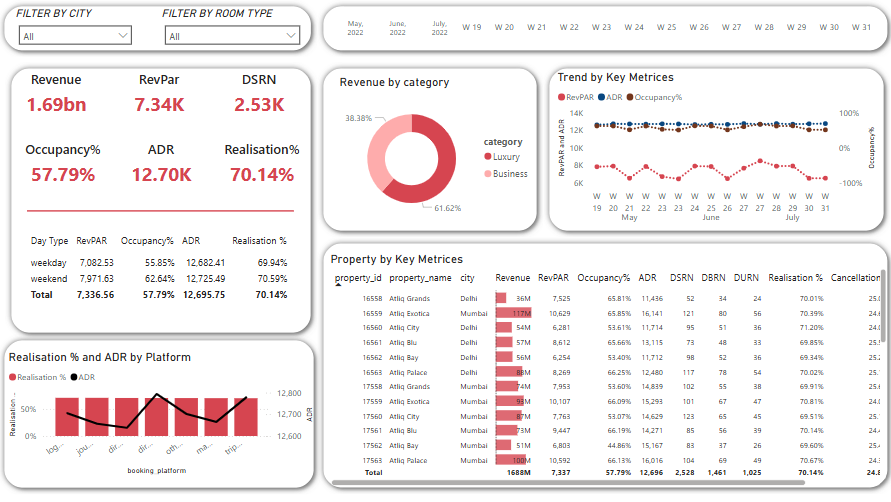

The dashboard page shown, as its layout file describes it:
{"tool":"powerbi","page":{"name":"Page 1","canvas":[1280,720],"ordinal":0},"visuals":[{"type":"shape","box":[455.7,338.6,824.3,367.1],"z":0},{"type":"shape","box":[455.7,0,824.3,81.4],"z":1000},{"type":"tableEx","title":"Property by Key Metrices","fields":{"Values":["dim_hotels.property_id","dim_hotels.property_name","dim_hotels.city","key_measures.Revenue","key_measures.RevPAR","key_measures.Occupancy%","key_measures.ADR","key_measures.DSRN","key_measures.DBRN","key_measures.DURN","key_measures.Realisation %","key_measures.Cancellation %"]},"box":[470,360,804.3,338.6],"z":2000},{"type":"slicer","title":"FILTER BY CITY","fields":{"Values":["dim_date.week no"]},"box":[628.6,18.6,651.4,38.6],"z":3000},{"type":"slicer","title":"FILTER BY CITY","fields":{"Values":["dim_date.mmm yy"]},"box":[455.7,8.6,228.6,62.9],"z":4000},{"type":"shape","box":[778.6,88.6,495.7,250],"z":5000},{"type":"shape","box":[455.7,88.6,322.9,250],"z":6000},{"type":"donutChart","fields":{"Y":["key_measures.Revenue"],"Category":["dim_hotels.category"]},"box":[482.9,107.1,290,220],"z":7000},{"type":"shape","box":[0,0,455.7,81.4],"z":8000},{"type":"slicer","title":"FILTER BY ROOM TYPE","fields":{"Values":["dim_rooms.room_class"]},"box":[228.6,8.6,212.9,65.7],"z":9000},{"type":"slicer","title":"FILTER BY CITY","fields":{"Values":["dim_hotels.city"]},"box":[20,8.6,181.4,65.7],"z":10000},{"type":"shape","box":[10,88.6,445.7,395.7],"z":11000},{"type":"lineChart","title":"Trend by Key Metrices","fields":{"Category":["dim_date.mmm yy.Variation.Date Hierarchy.Month","dim_date.week no"],"Y":["key_measures.RevPAR","key_measures.ADR"],"Y2":["key_measures.Occupancy%"]},"box":[794.3,100,464.3,232.9],"z":12000},{"type":"card","title":"Revenue","fields":{"Values":["key_measures.Revenue"]},"box":[0,100,165.7,74.3],"z":13000},{"type":"card","title":"RevPar","fields":{"Values":["key_measures.RevPAR"]},"box":[147.1,100,165.7,74.3],"z":14000},{"type":"shape","box":[0,477.1,460,228.6],"z":15000},{"type":"lineStackedColumnComboChart","title":"Realisation % and ADR by Platform","fields":{"Category":["fact_booking.booking_platform"],"Y":["key_measures.Realisation %"],"Y2":["key_measures.ADR"]},"box":[10,500,445.7,182.9],"z":16000},{"type":"card","title":"DSRN","fields":{"Values":["key_measures.DSRN"]},"box":[290,100,165.7,74.3],"z":17000},{"type":"card","title":"Occupancy%","fields":{"Values":["key_measures.Occupancy%"]},"box":[10,200,165.7,74.3],"z":18000},{"type":"tableEx","fields":{"Values":["dim_date.Day Type","key_measures.RevPAR","key_measures.Occupancy%","key_measures.ADR","key_measures.Realisation %"]},"box":[35.7,327.1,392.9,134.3],"z":19000},{"type":"card","title":"ADR","fields":{"Values":["key_measures.ADR"]},"box":[150,200,165.7,74.3],"z":20000},{"type":"card","title":"Realisation%","fields":{"Values":["key_measures.Realisation %"]},"box":[294.3,200,165.7,74.3],"z":21000},{"type":"shape","box":[41.4,158.6,381.4,285.7],"z":21001}]}

Visuals, with their boxes in screenshot pixels (x1, y1, x2, y2), scaled from the page's 1280x720 canvas onto the 891x502 screenshot:
shape: [317,236,890,492]
shape: [317,0,890,57]
"Property by Key Metrices" tableEx: [327,251,887,487]
"FILTER BY CITY" slicer: [438,13,890,40]
"FILTER BY CITY" slicer: [317,6,476,50]
shape: [542,62,887,236]
shape: [317,62,542,236]
donutChart - key_measures.Revenue x dim_hotels.category: [336,75,538,228]
shape: [0,0,317,57]
"FILTER BY ROOM TYPE" slicer: [159,6,307,52]
"FILTER BY CITY" slicer: [14,6,140,52]
shape: [7,62,317,338]
"Trend by Key Metrices" lineChart: [553,70,876,232]
"Revenue" card: [0,70,115,122]
"RevPar" card: [102,70,218,122]
shape: [0,333,320,492]
"Realisation % and ADR by Platform" lineStackedColumnComboChart: [7,349,317,476]
"DSRN" card: [202,70,317,122]
"Occupancy%" card: [7,139,122,191]
tableEx - dim_date.Day Type x key_measures.RevPAR: [25,228,298,322]
"ADR" card: [104,139,220,191]
"Realisation%" card: [205,139,320,191]
shape: [29,111,294,310]
